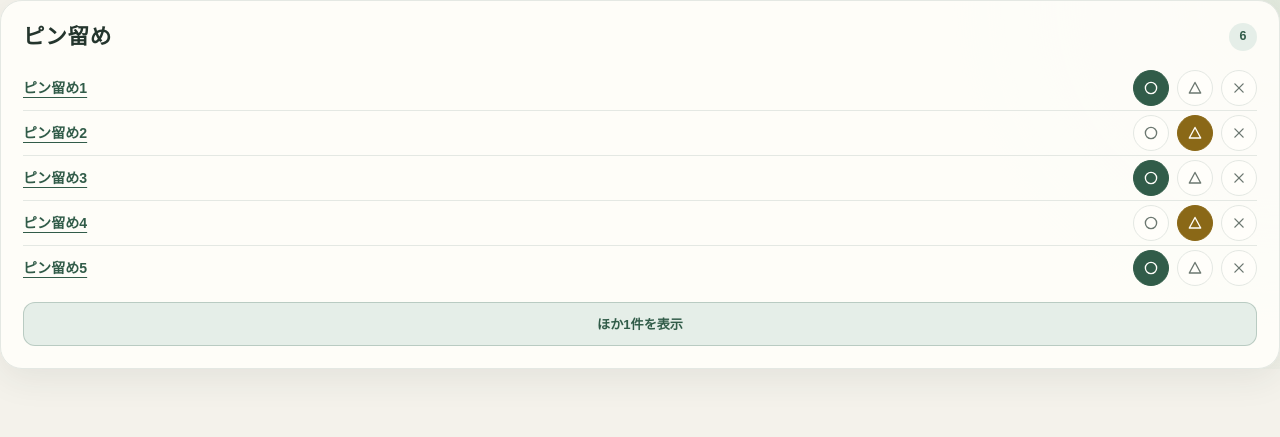
ホームのピン留め消耗品 › 6件以上は最近の5件を表示し、残りを展開して閉じられる
The image size is (1280, 437).
Expected: the text "ピン留め6" is not shown
Click the button "ほか1件を表示". click: {"x": 640, "y": 324}
box: [23,302,1257,346]
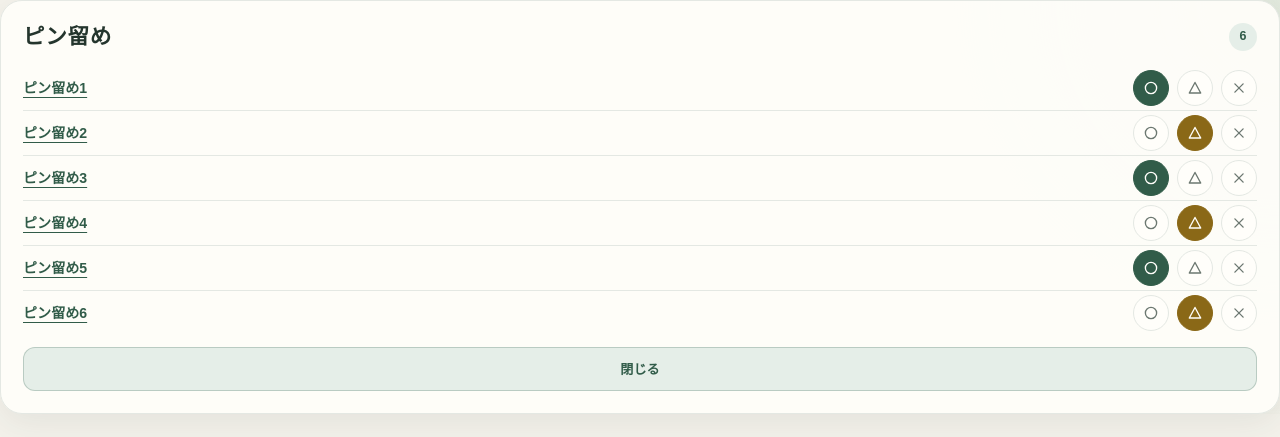
Now the link "ピン留め6" is shown, box [23,305,87,321]
Click the button "閉じる". click: {"x": 640, "y": 369}
box: [23,347,1257,391]
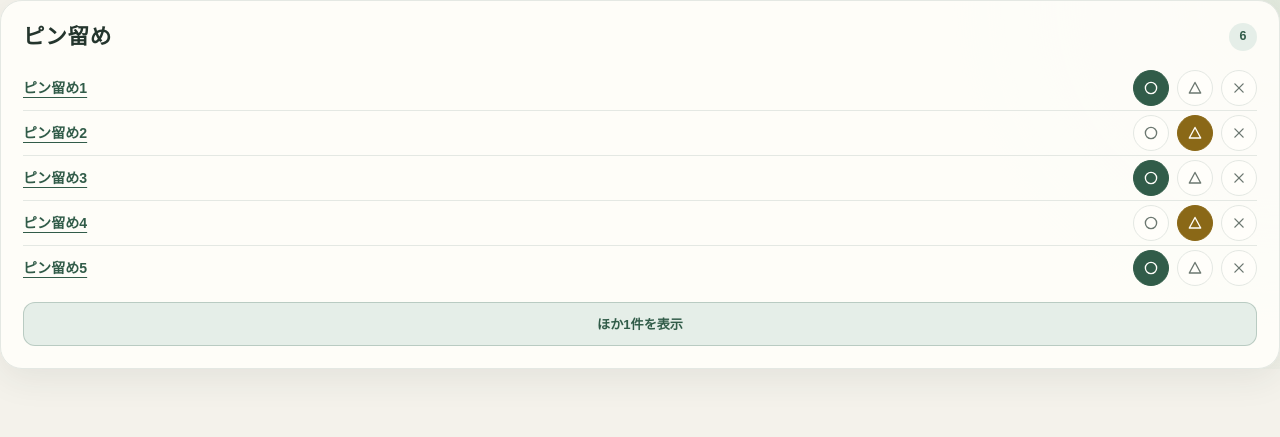
Now the link "ピン留め6" is gone
